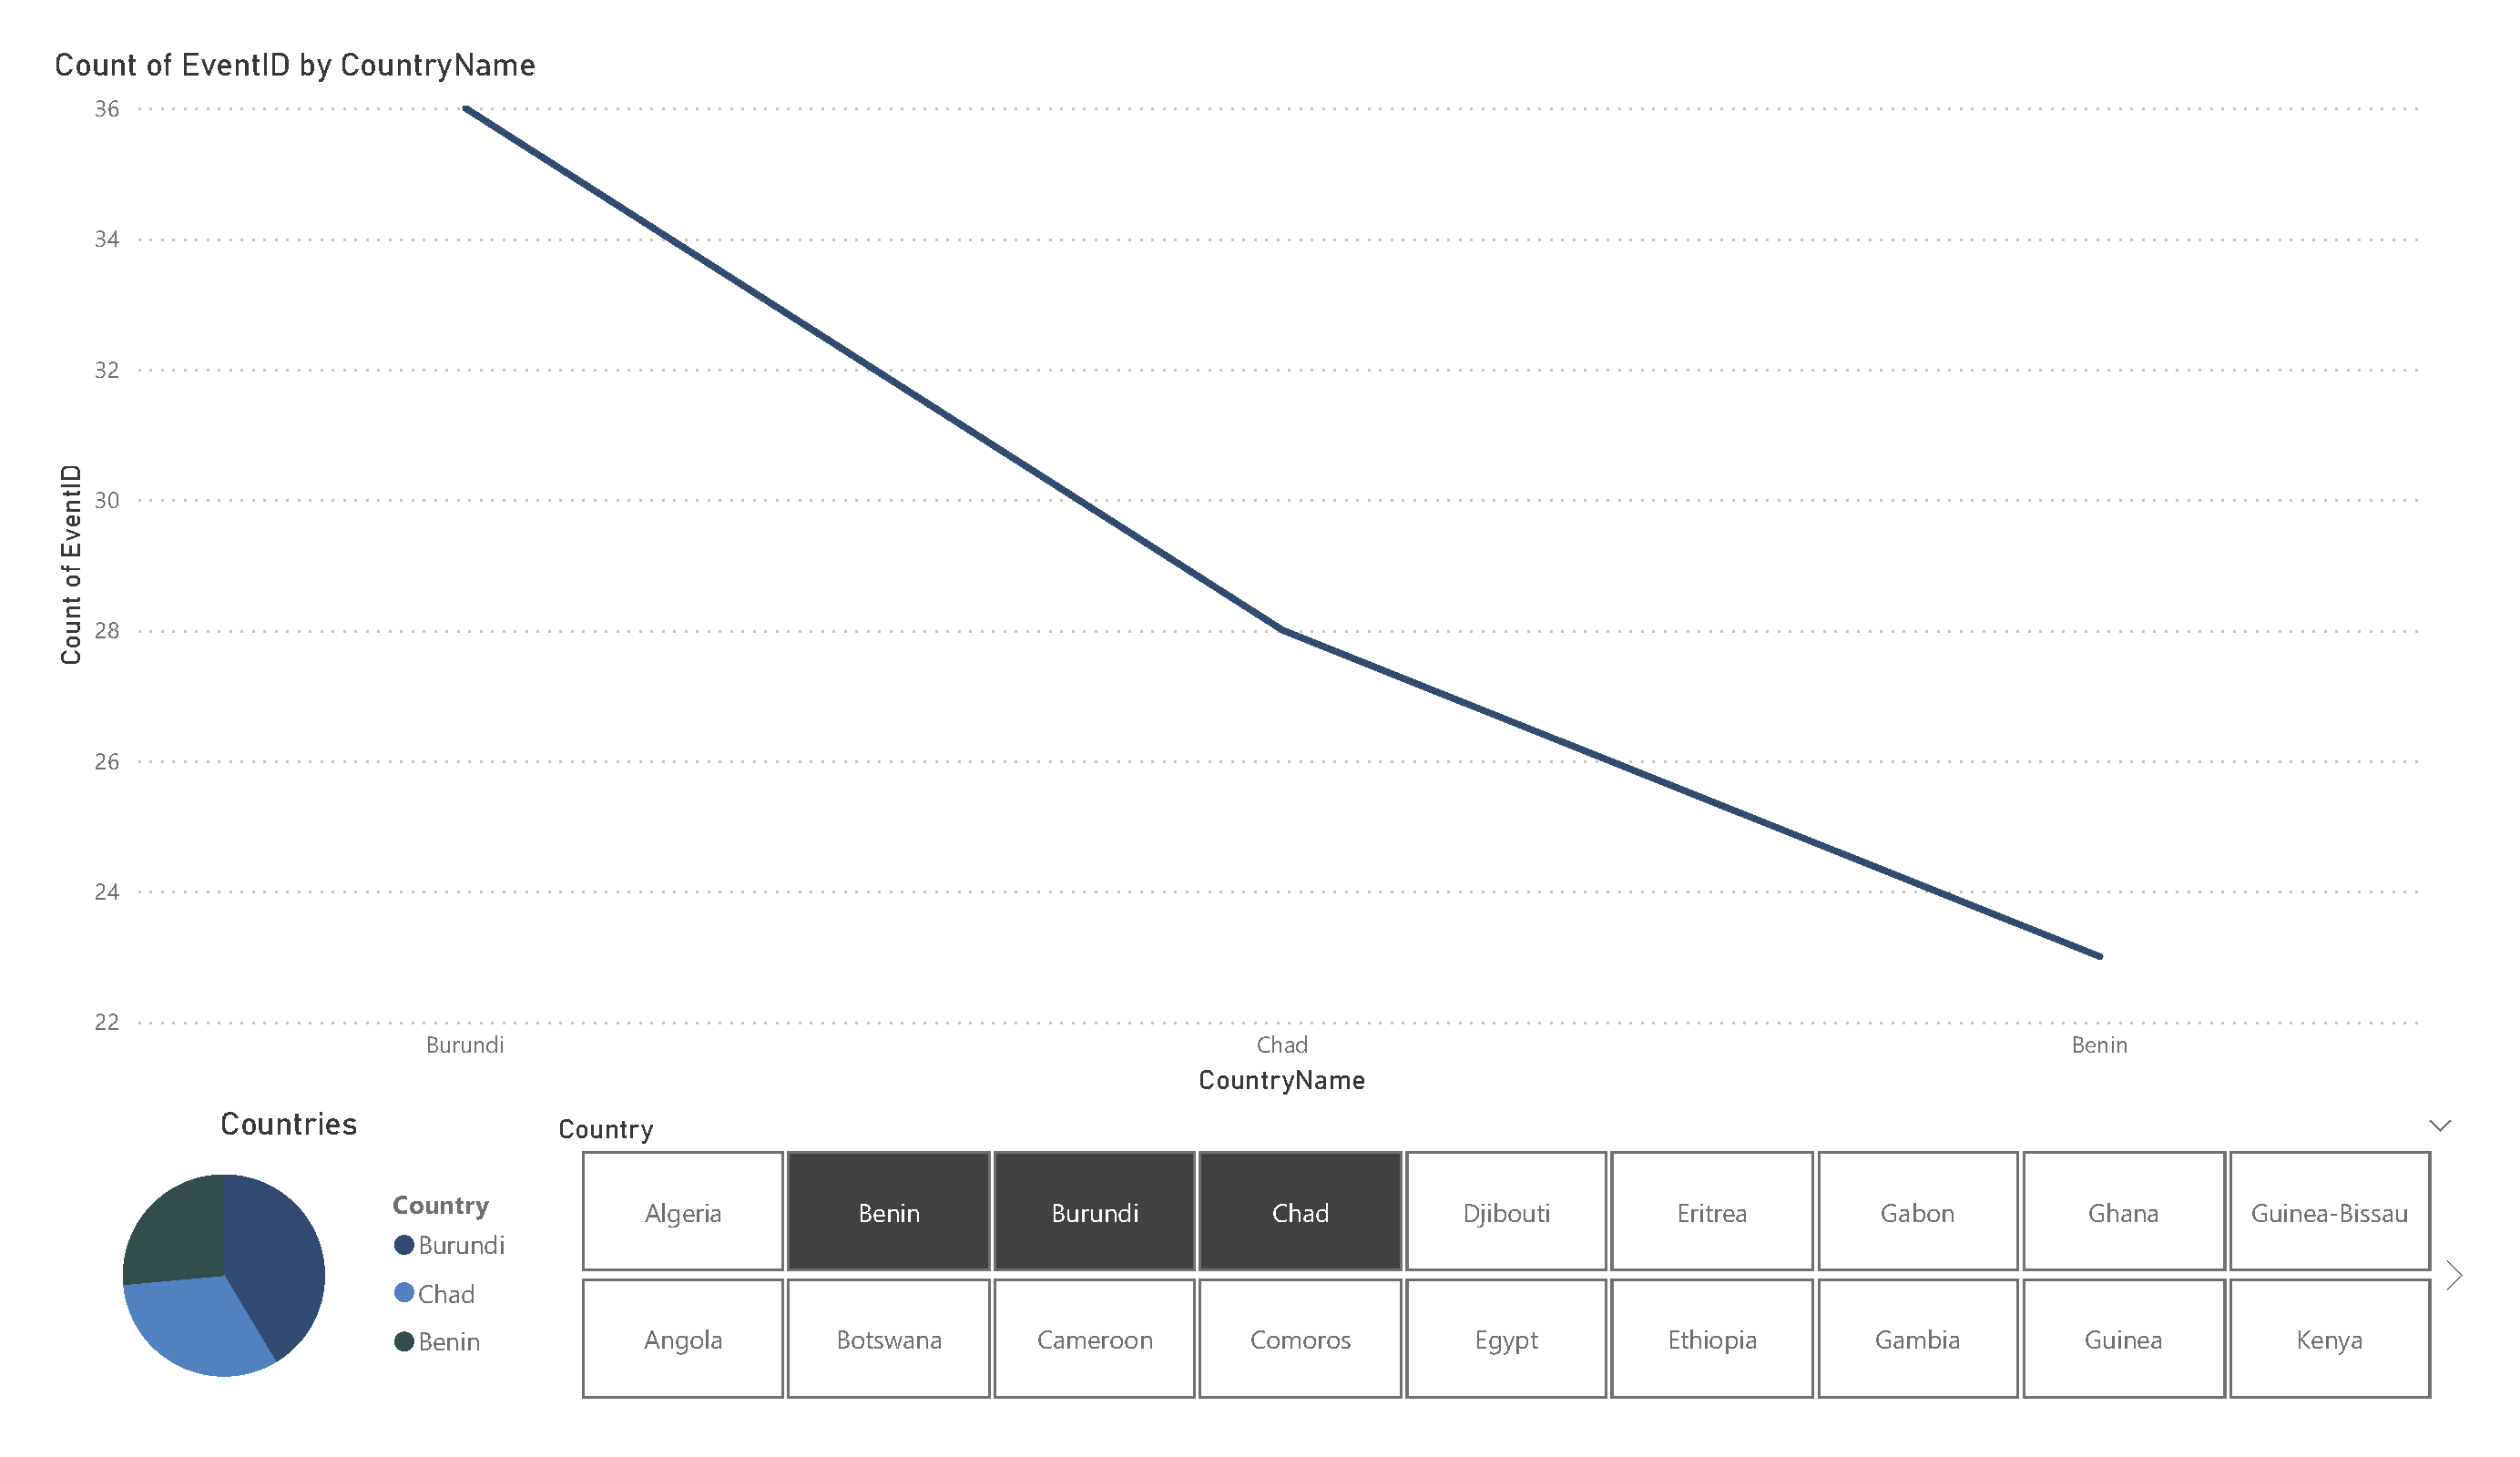

This screenshot's page, from the dashboard's own definition file:
{"tool":"powerbi","page":{"name":"Page 2","canvas":[1280,720],"ordinal":2},"visuals":[{"type":"slicer","fields":{"Values":["Timeline.CountryName"]},"box":[256.5,558.4,1024.5,161.1],"z":0},{"type":"pieChart","title":"Countries","fields":{"Category":["Timeline.CountryName"],"Y":["CountNonNull(Timeline.EventDescription)"]},"box":[0,558.4,256.5,161.1],"z":1000},{"type":"lineChart","fields":{"Category":["Timeline.CountryName"],"Y":["CountNonNull(Timeline.EventID)"]},"box":[0,0,1260.4,557.9],"z":2000}]}

Visuals, with their boxes in screenshot pixels (x1, y1, x2, y2):
slicer - Timeline.CountryName: {"x1": 532, "y1": 1105, "x2": 2474, "y2": 1411}
"Countries" pieChart: {"x1": 46, "y1": 1105, "x2": 532, "y2": 1411}
lineChart - Timeline.CountryName x CountNonNull(Timeline.EventID): {"x1": 46, "y1": 46, "x2": 2437, "y2": 1104}
